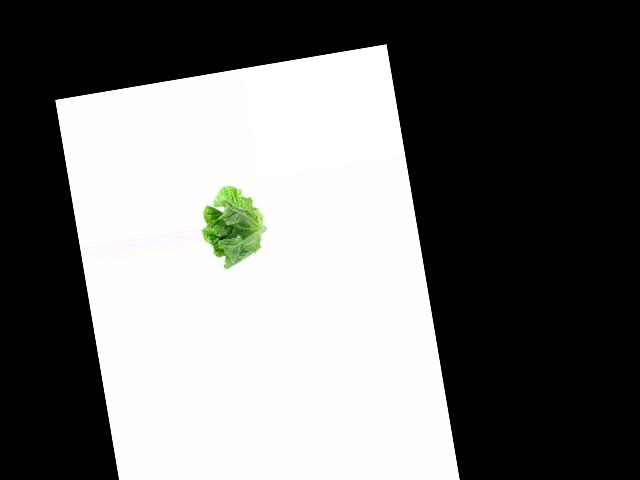lettuce: (195, 182, 269, 273)
